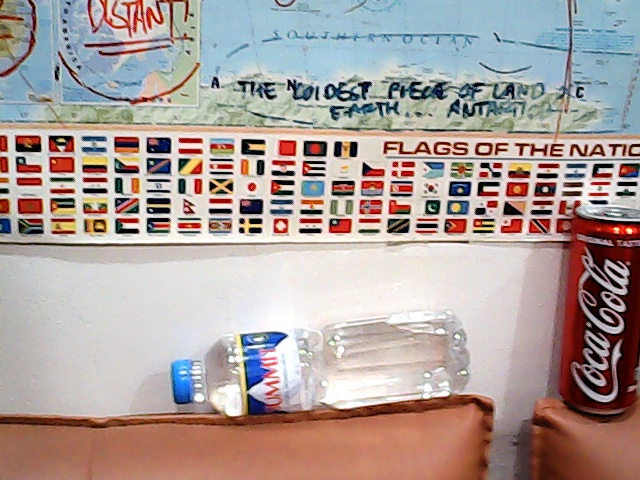Cola: (551, 200, 640, 424)
Summit Water: (170, 318, 481, 411)
